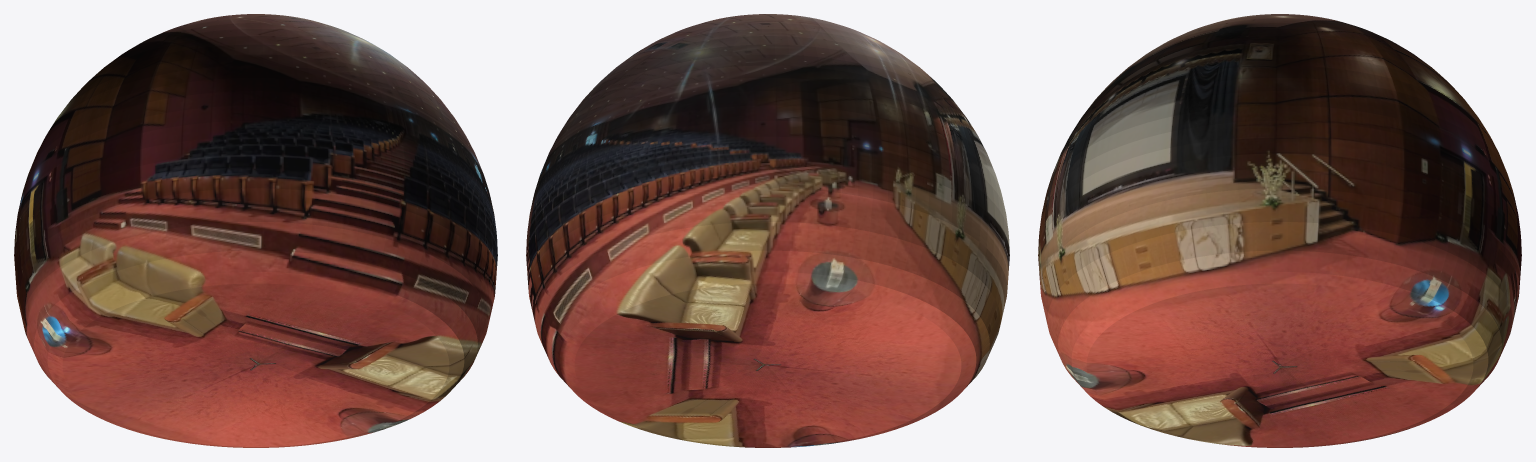
Rendered from theater-stage-013.glb.
3 views of the same model, side by side, from view 1: azimuth 30°, elevation 25°; view 2: azimuth 150°, elevation 25°; view 3: azimuth 270°, elevation 25° (orthographic).
Size of the model in its own units: 2 by 1.5 by 2.
1 material, 1 textured.
